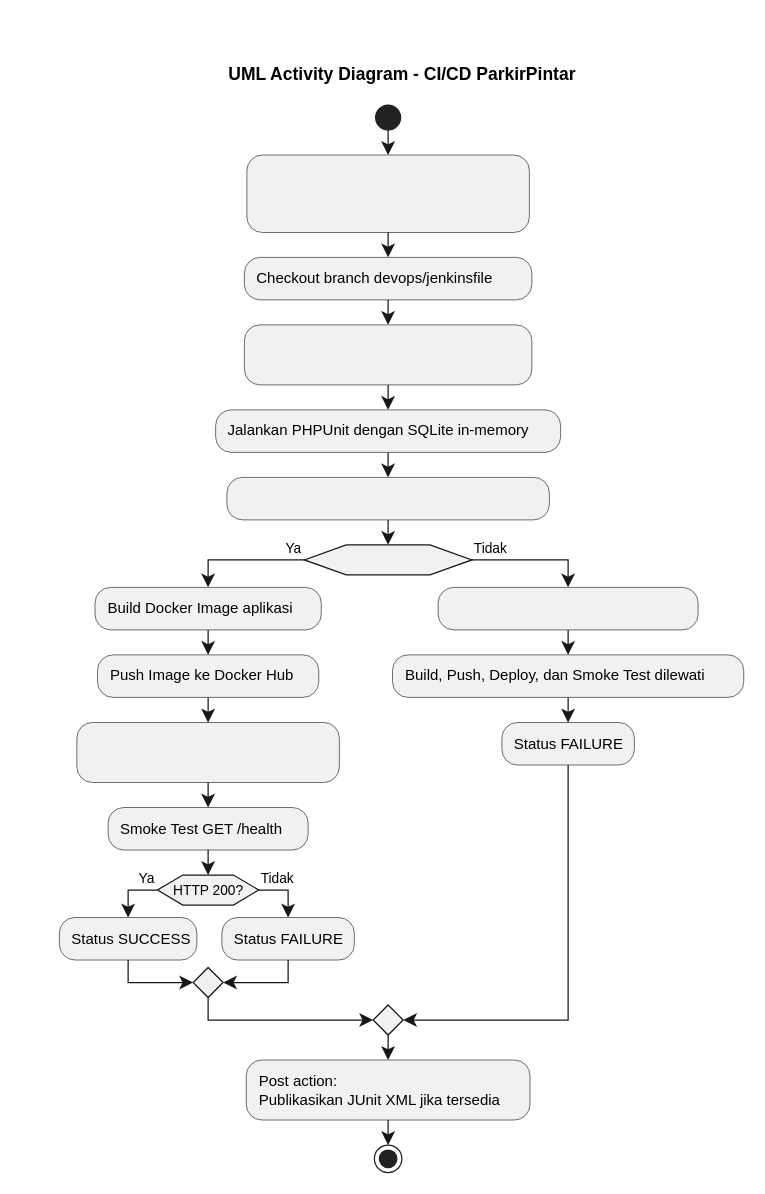
This 765x1194 diagram has some shape labels left out. Here are the shapes that lost their labels. From the top down, the box of each, then its label:
(246, 154, 529, 232): Trigger pipeline: Push ke GitHub via webhook/ngrok atau Jenkins Build Now
(244, 324, 532, 385): Siapkan container pengujian Docker (ci/Dockerfile.test)
(226, 476, 549, 520): Simpan laporan JUnit XML bila dihasilkan
(303, 544, 472, 575): Tahap Test berhasil?
(437, 586, 698, 630): Quality Gate memblokir pipeline
(76, 722, 339, 782): Deploy melalui Docker Compose (app + MySQL, migrate)
